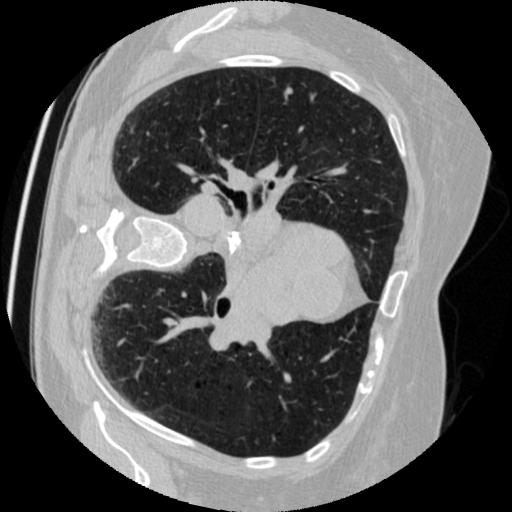nodule: (283, 86, 297, 100)
